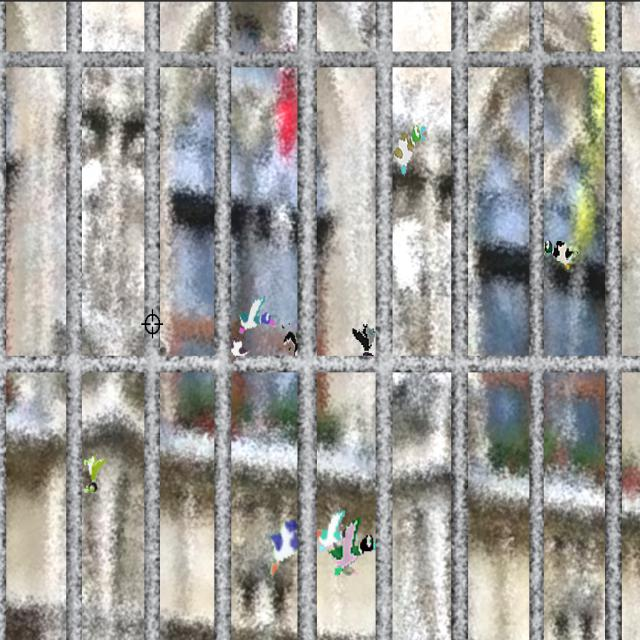duck: (323, 517, 378, 579), (264, 508, 301, 576), (316, 504, 361, 556), (394, 119, 428, 184), (233, 294, 279, 337), (544, 231, 582, 276)
falling_duck: (78, 442, 109, 503), (349, 314, 378, 362), (282, 324, 303, 361)
